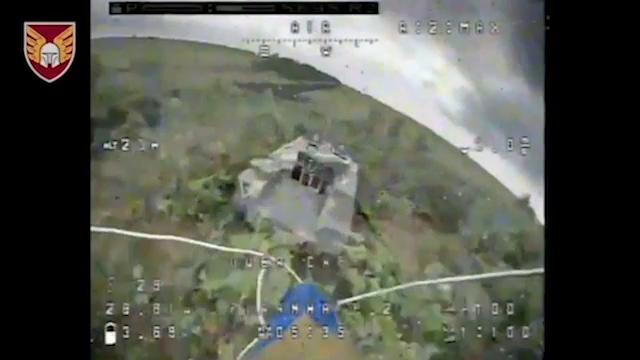tank: (230, 118, 360, 273)
